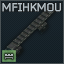MP5 MFI HK universal low profile scope mount: (0, 0, 64, 64)
